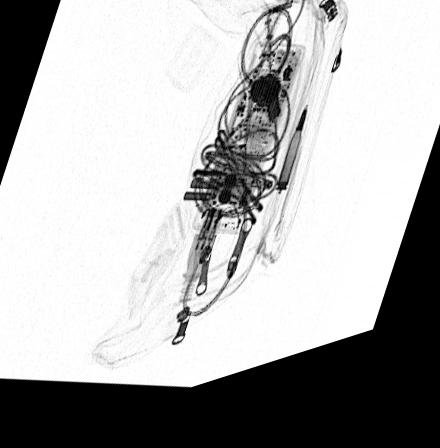Bullet: (274, 123, 306, 209)
